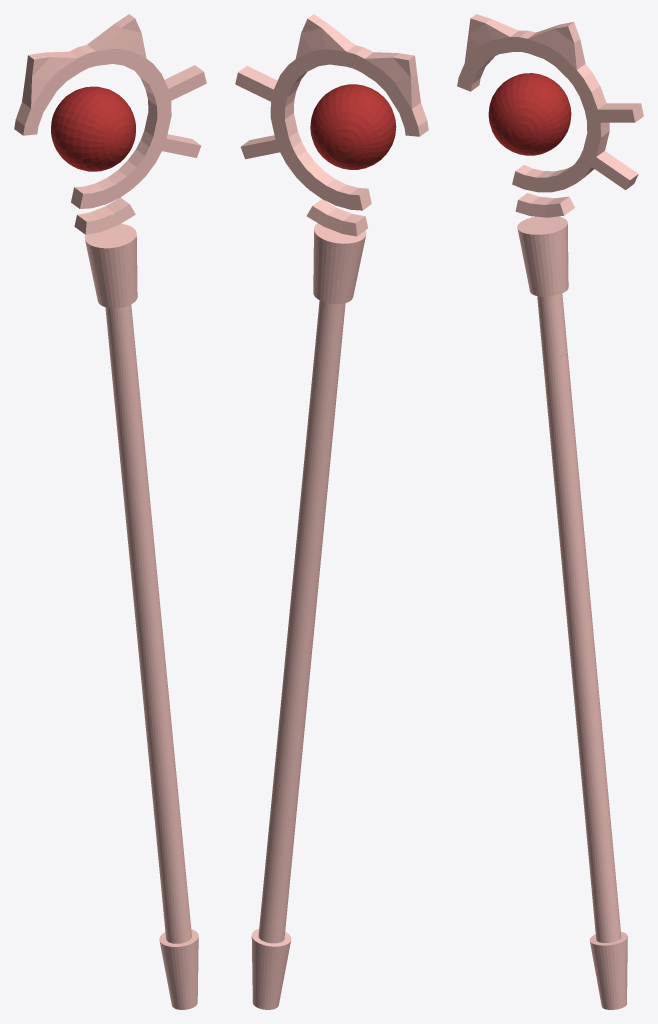
Rendered from staff.fbx.
The picture shows the model from 3 angles, left to right: view 1: azimuth 30°, elevation 25°; view 2: azimuth 150°, elevation 25°; view 3: azimuth 330°, elevation 25°; orthographic projection. The views are drawn at different scales.
Parts seen in each view (by area): view 1: Circle.009, Circle.010; view 2: Circle.009, Circle.010; view 3: Circle.009, Circle.010.
Boxes of the visible parts, x1,y1,x2,y2 form: Circle.009: (14, 14, 206, 1009); Circle.010: (51, 86, 135, 171); Circle.009: (235, 14, 428, 1009); Circle.010: (310, 84, 396, 169); Circle.009: (457, 14, 643, 1009); Circle.010: (488, 73, 571, 155).
Size of the model in its own units: 33.49 by 174 by 13.49.
